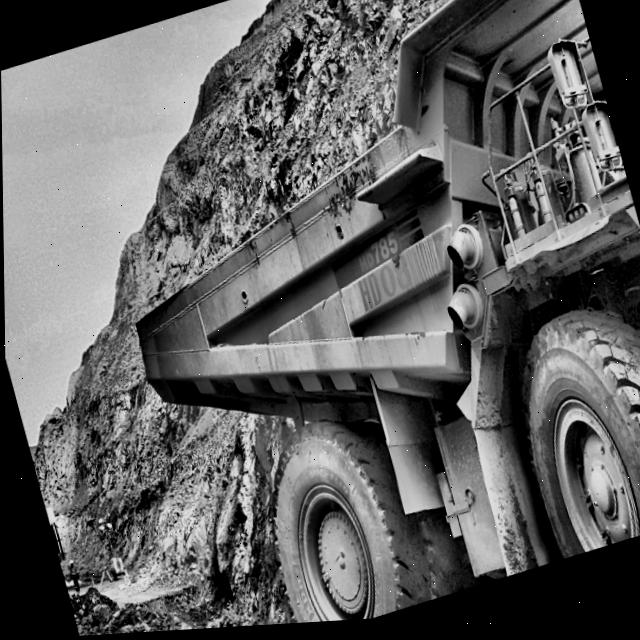dump_truck: (53, 0, 640, 638)
